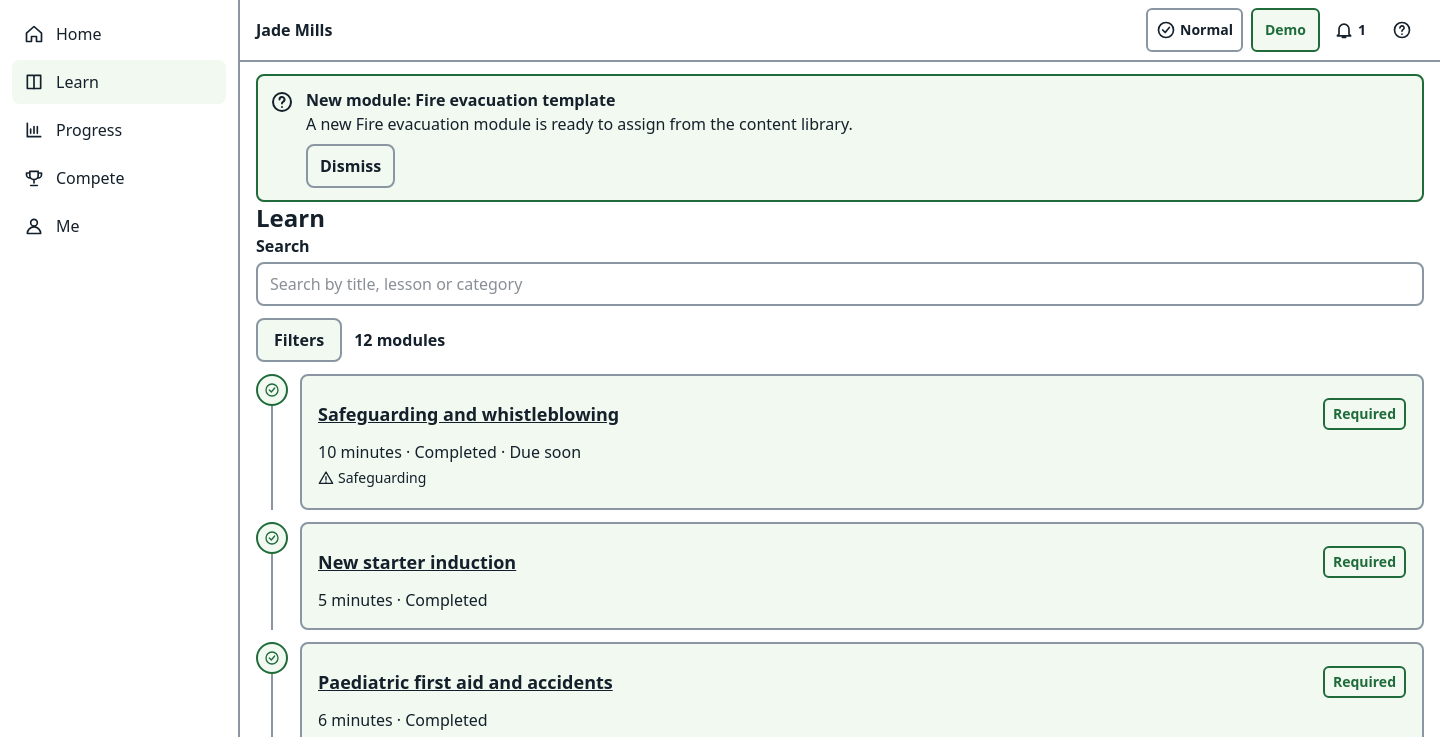
Test: S3 Learn: search (BP-6) › finds a module by its lesson title
This screenshot has width=1440, height=737.
Check: the heading "Learn" is shown, box x1=256 y1=202 x2=325 y2=234
Type "banned dogs" into the search field labelled "Search" at coordinates (840, 284), box x1=256 y1=262 x2=1424 y2=306
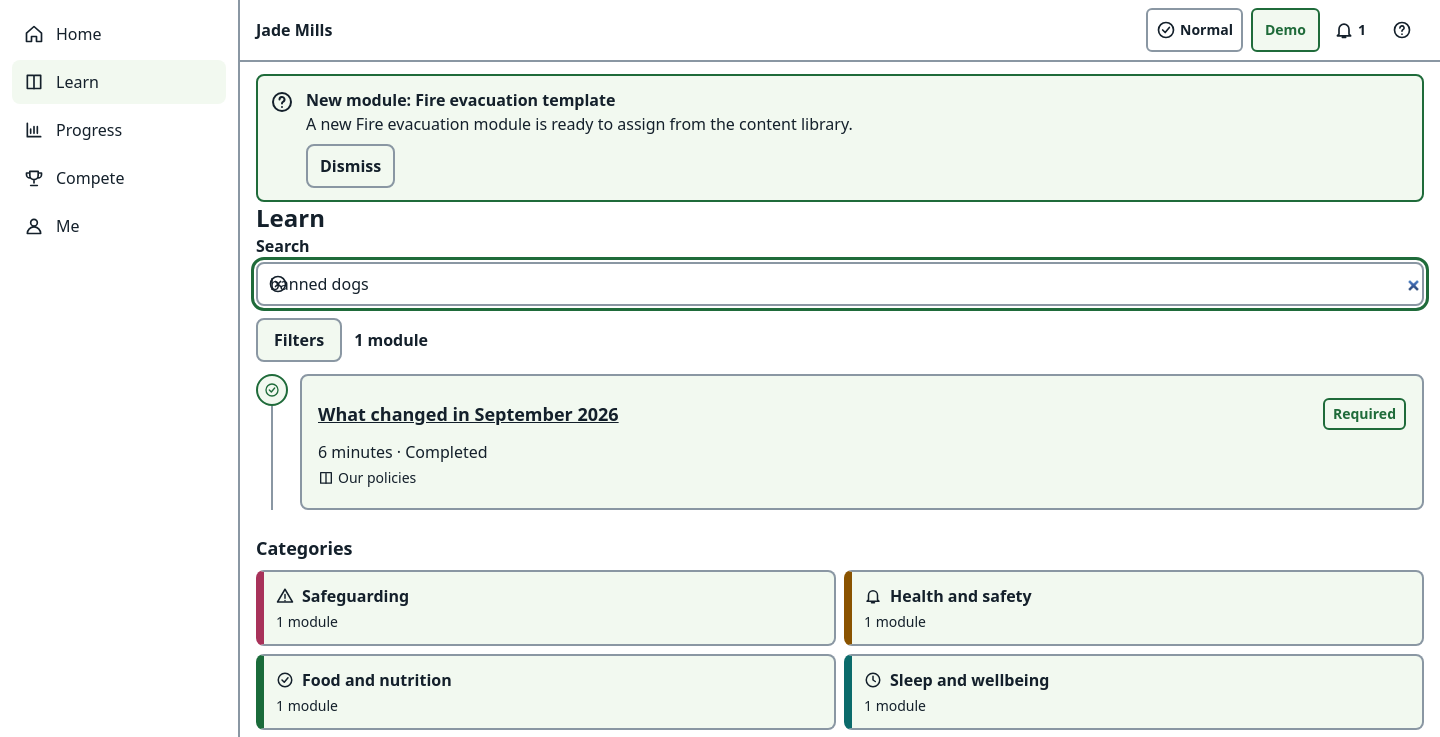
Check: the text with test id "learn-count" reads "1 module", box x1=354 y1=329 x2=428 y2=351
